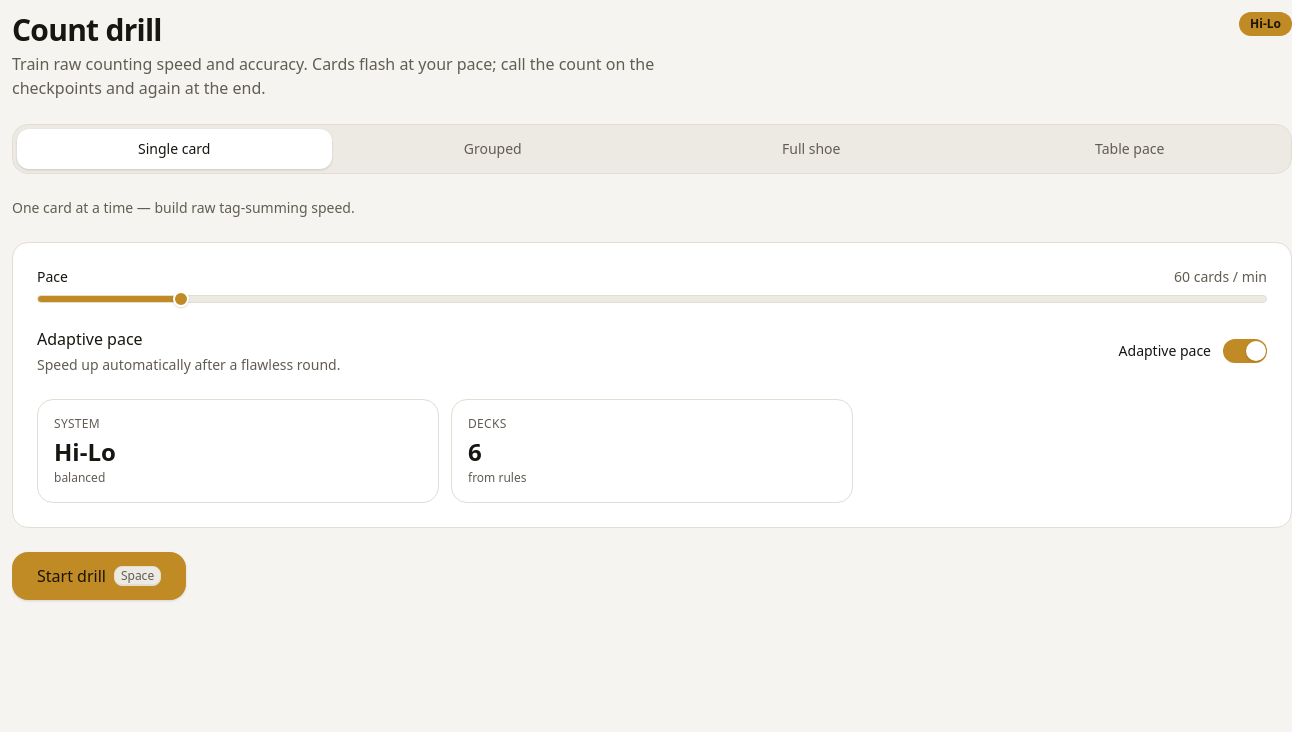
Test: CountDrill › switches sub-mode and shows its blurb
The width and height of the screenshot is (1292, 732).
Click the radio button labelled "Grouped": (493, 149) left=336, top=129, right=650, bottom=169
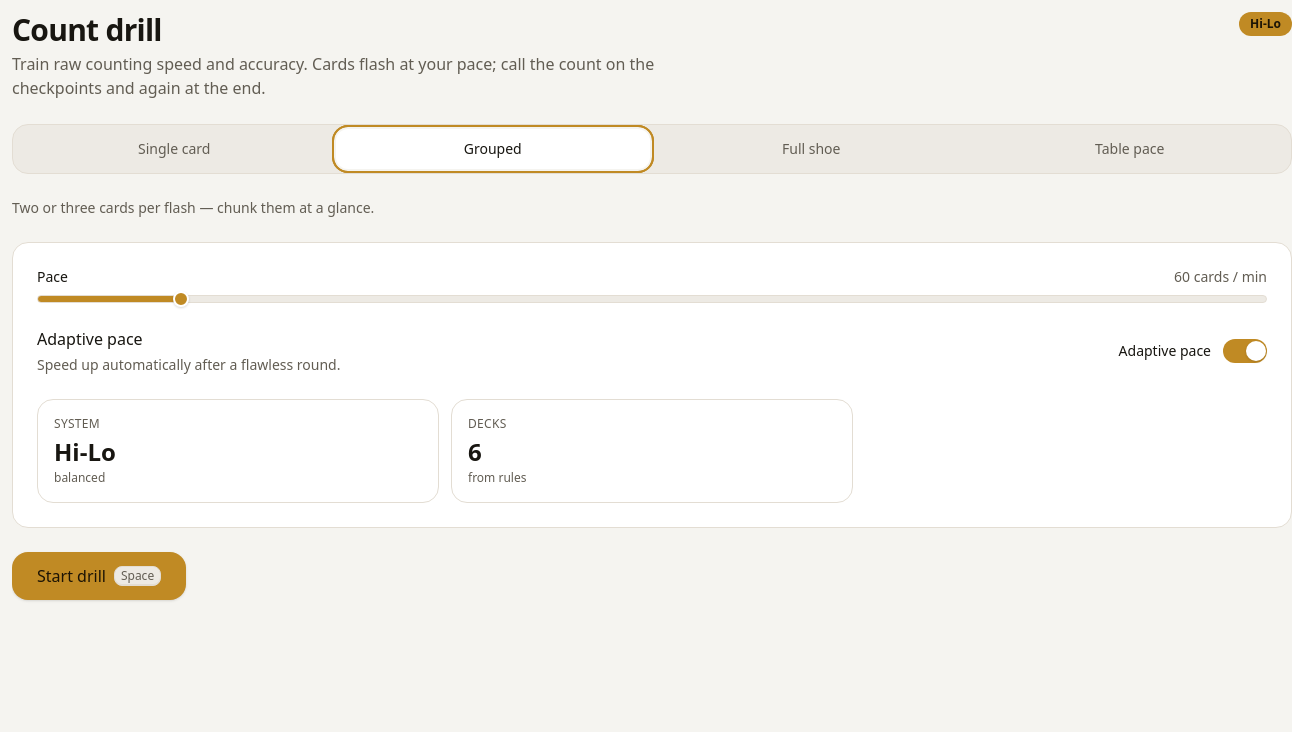
Now the text "Two or three cards per flash — chunk them at a glance." is shown, box left=12, top=198, right=374, bottom=217
